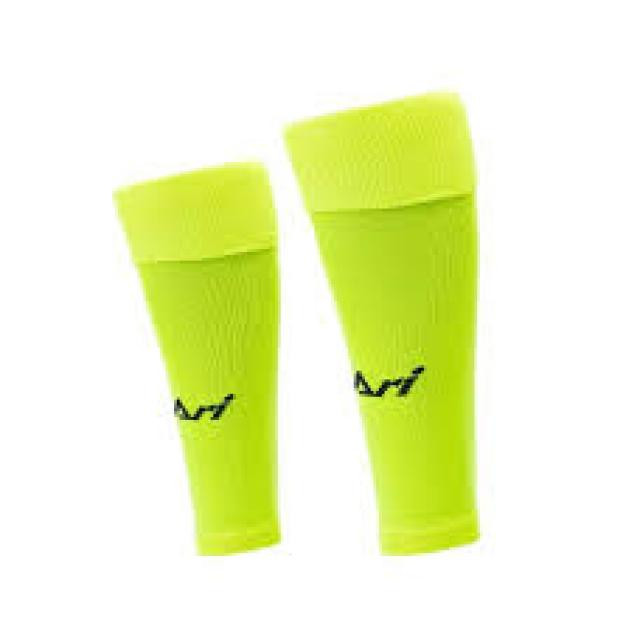sock: (281, 87, 480, 556), (110, 156, 280, 556)
